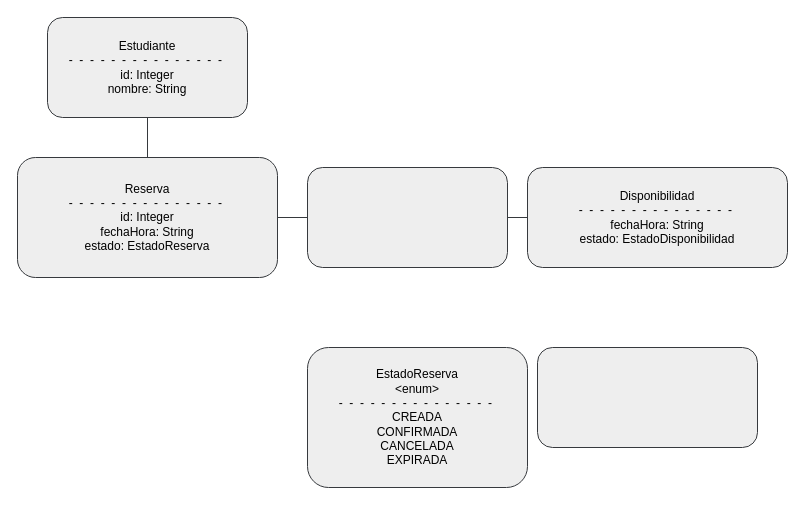
This 805x505 diagram has some shape labels left out. The shapes that lost their labels are listed below. From the top down, each one's box as (x1, y1, x2, y2) in pixels, then its label:
(306, 166, 508, 268): Tutor - - - - - - - - - - - - - - - id: Integer nombre: String
(536, 346, 758, 448): EstadoDisponibilidad <enum> - - - - - - - - - - - - - - - LIBRE OCUPADA
